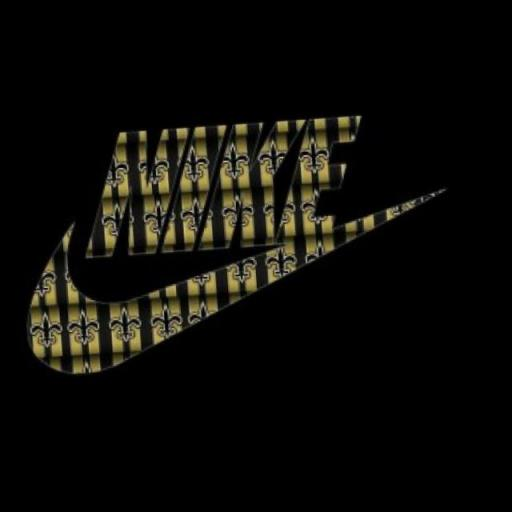Nike: (13, 181, 462, 385), (73, 109, 370, 266)
